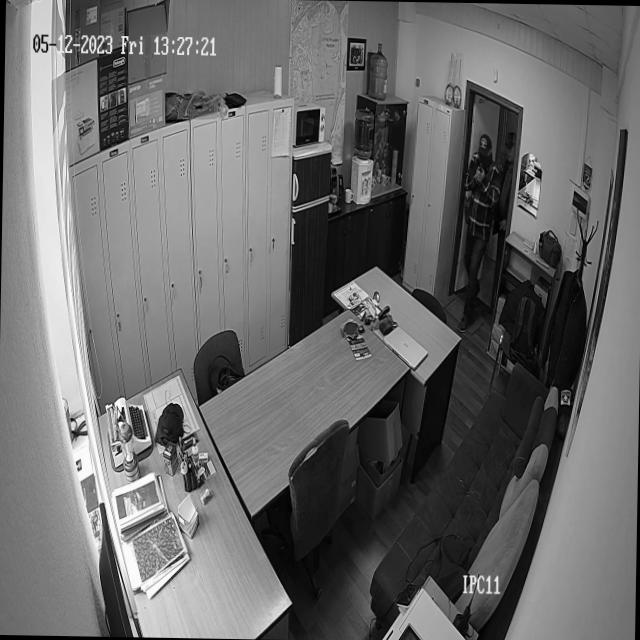gun: (473, 161, 486, 183)
person with a gun: (456, 128, 503, 328)
